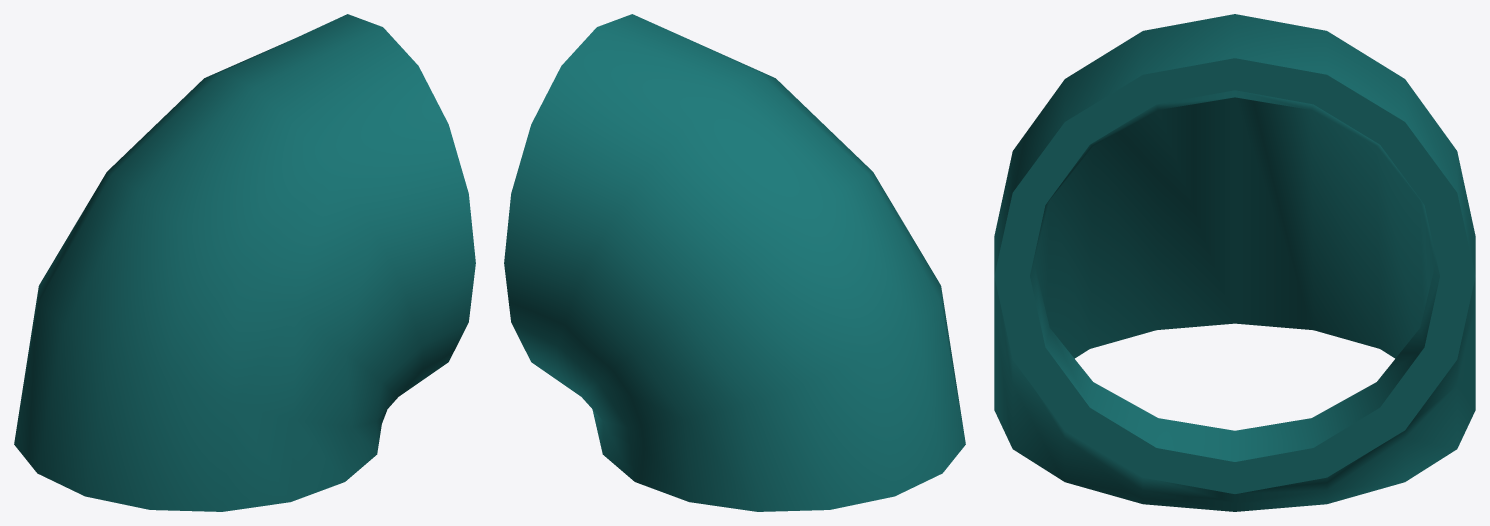
Rendered from cc0-pipe-lod0.glb.
3 views of the same model, side by side, from view 1: azimuth 30°, elevation 25°; view 2: azimuth 150°, elevation 25°; view 3: azimuth 270°, elevation 25° (orthographic). The views are drawn at different scales.
Visible parts, largest first — view 1: part_0; view 2: part_0; view 3: part_0.
Boxes of the visible parts, <box> form: part_0: <box>14,14,475,511</box>; part_0: <box>504,14,965,511</box>; part_0: <box>994,14,1475,511</box>.
Size of the model in its own units: 1.87 by 1.87 by 1.74.
